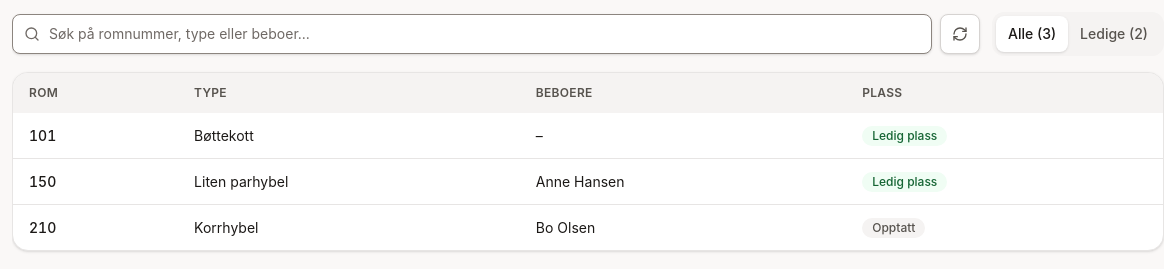
Test: AllRoomsTab › can show only rooms with space
What coordinates should you click on to do the following:
click the radio button labelled "Ledige (2)"
I would click on:
 (1114, 34)
Its box is [1068,16,1160,52].
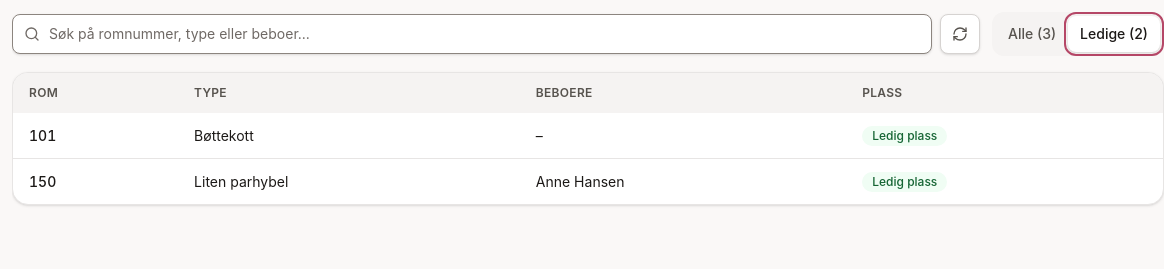
Expected: the text "Anne Hansen" is shown, [520,158,846,204]
Result: the text "Bo Olsen" is gone
